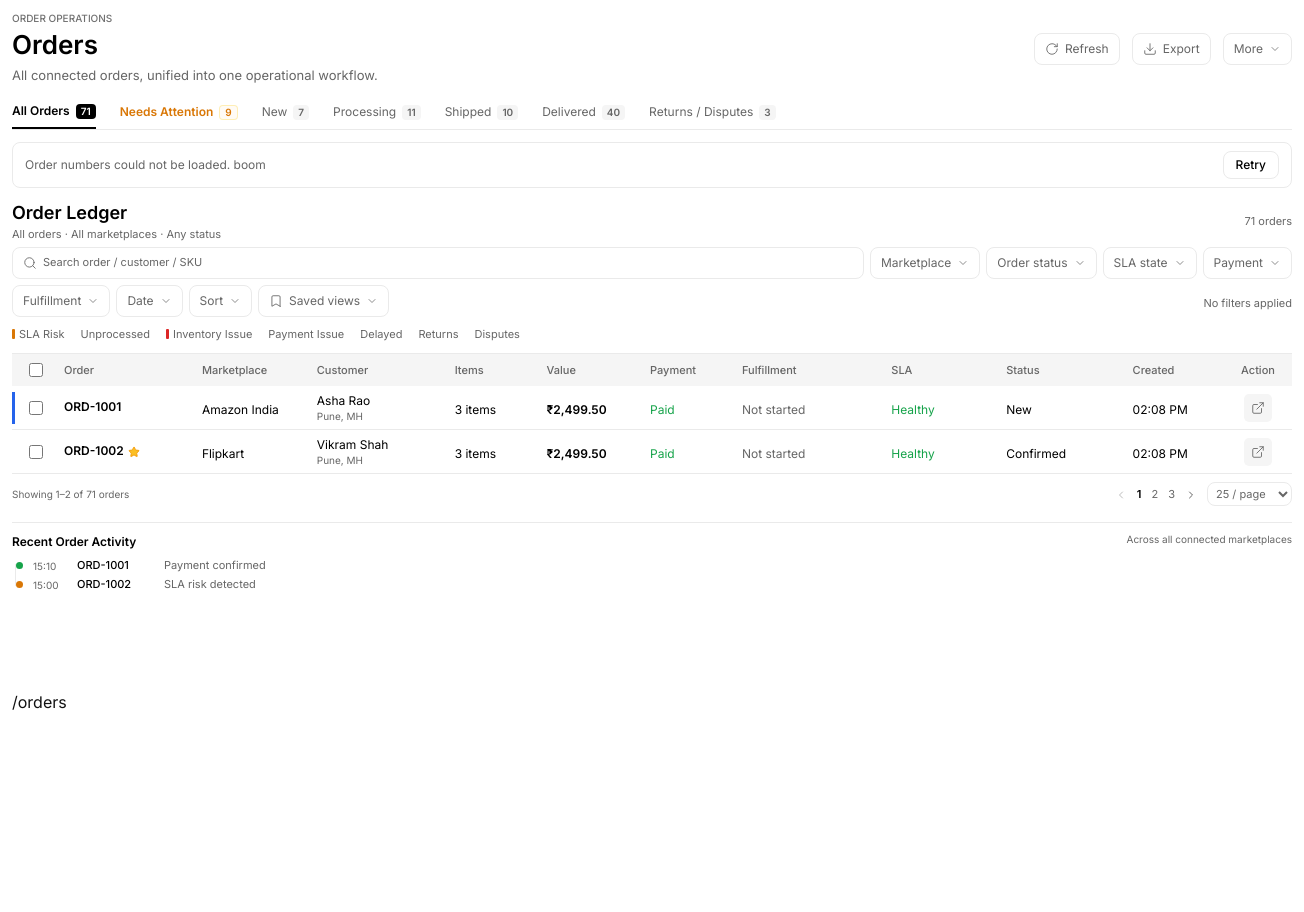
Test: pulse, needs attention, sources, SLA pressure and tabs from the API › shows a retry when the numbers cannot be loaded
Check: the text "Order numbers could not be loaded. boom" is shown, box [25,156,266,174]
Click the button "Retry" at (1251, 165), box [1222,151,1279,179]
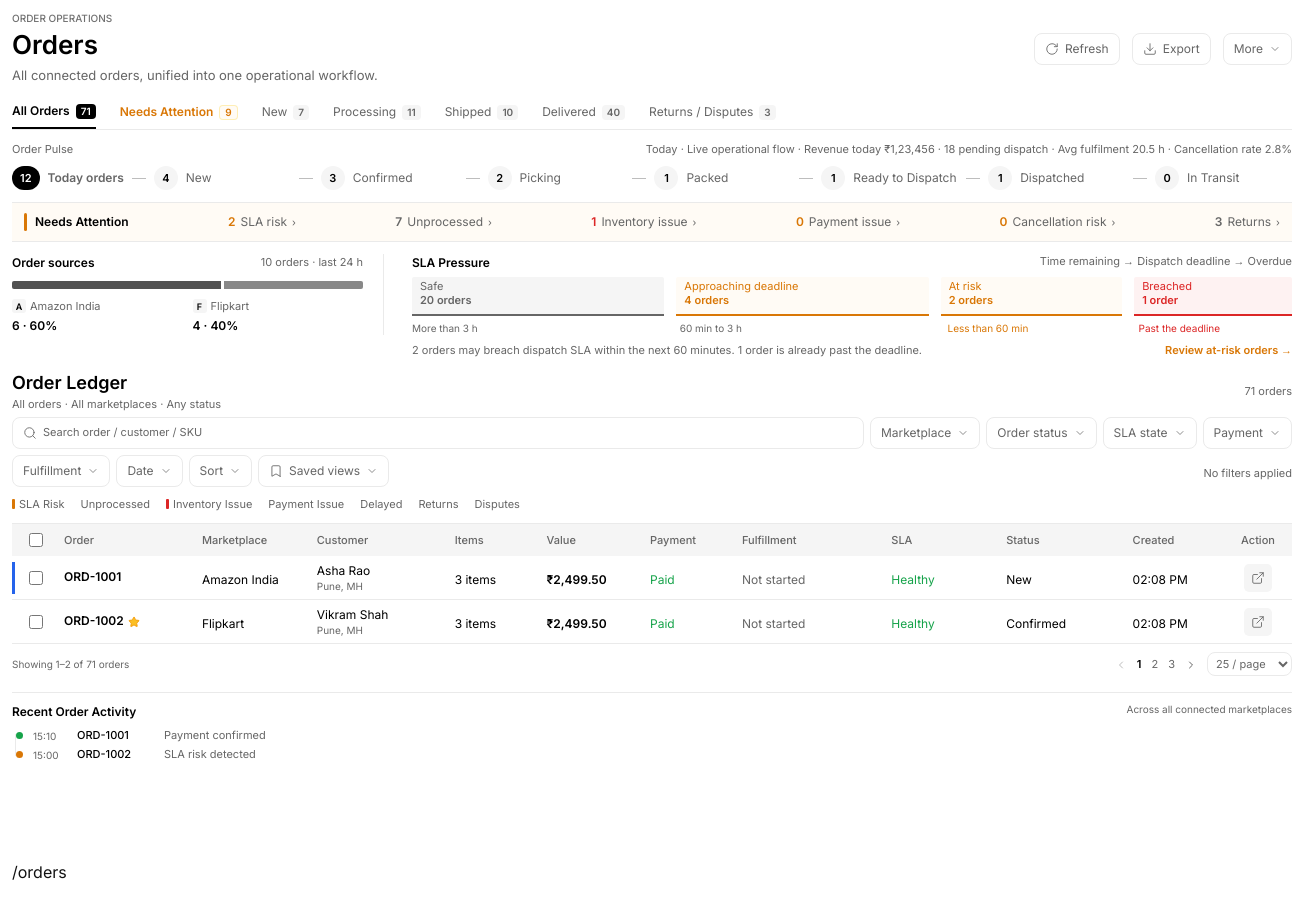
Check: the element named "Today's orders by stage" is shown, box [12,166,1292,190]
